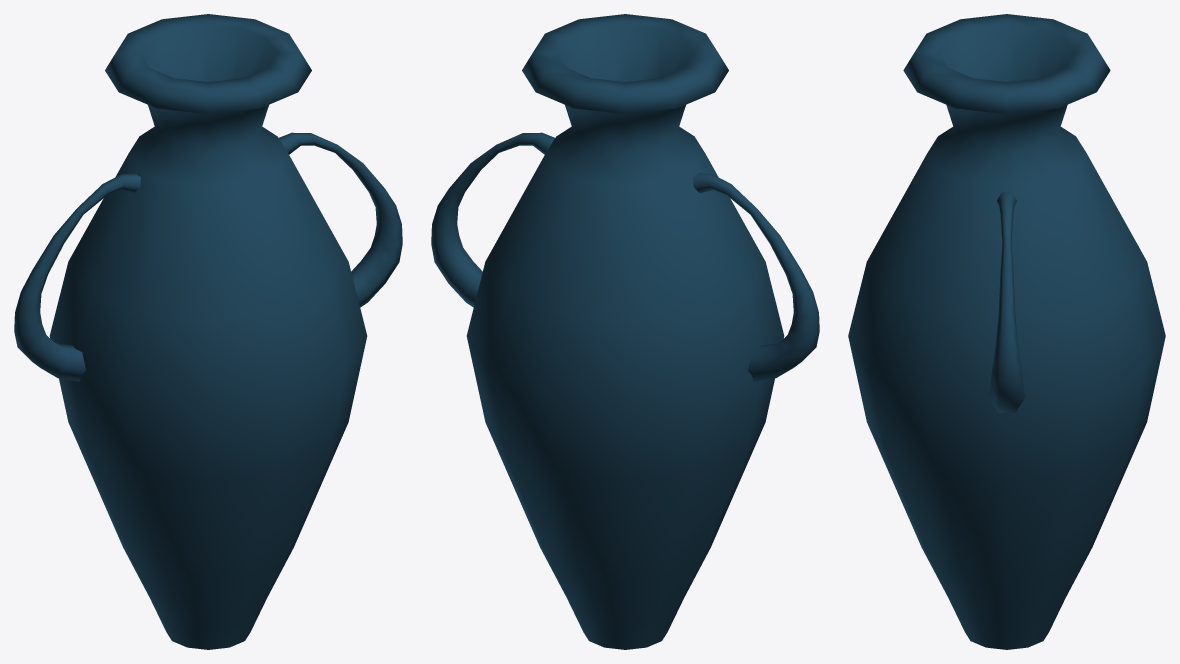
Rendered from vase-05.fbx.
3 renders of one model, left to right at view 1: azimuth 30°, elevation 25°; view 2: azimuth 150°, elevation 25°; view 3: azimuth 270°, elevation 25°, orthographic.
Visible parts, largest first — view 1: vase-05; view 2: vase-05; view 3: vase-05.
Part boxes in pixels (box(x1,y1,x2,y2)): vase-05: box(14, 14, 402, 649); vase-05: box(431, 14, 819, 649); vase-05: box(848, 14, 1165, 649).
Bounding box in the file's own units: 736 × 1068 × 531.
